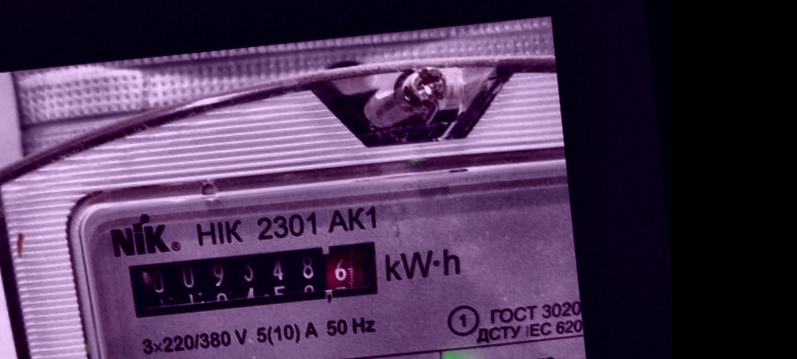0: (147, 269, 165, 297), (177, 263, 194, 291)
3: (238, 258, 254, 284)
4: (265, 253, 286, 285)
6: (328, 255, 348, 285)
8: (297, 253, 314, 282)
9: (208, 263, 225, 291)
screen: (108, 226, 392, 332)
